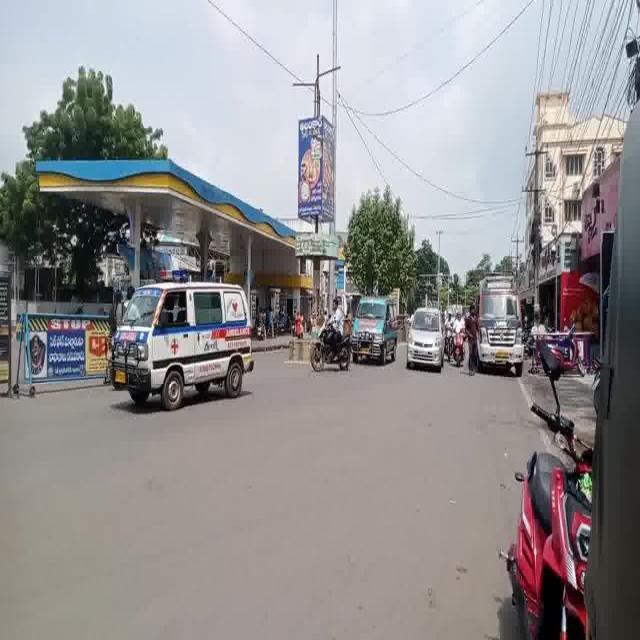ambulance: (106, 267, 266, 413), (482, 274, 528, 386), (356, 286, 401, 369)
